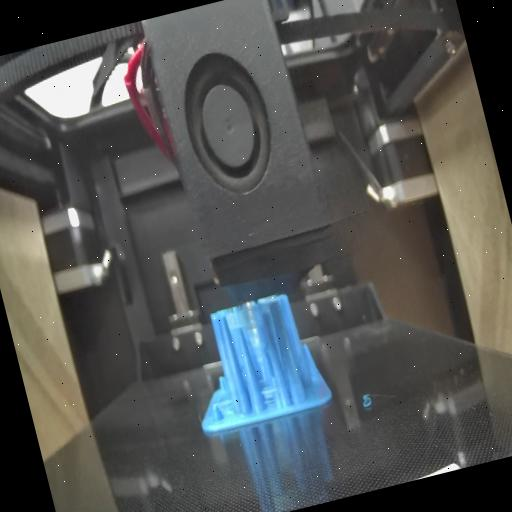stringing: (225, 296, 274, 332), (258, 378, 282, 410), (212, 394, 233, 416)
